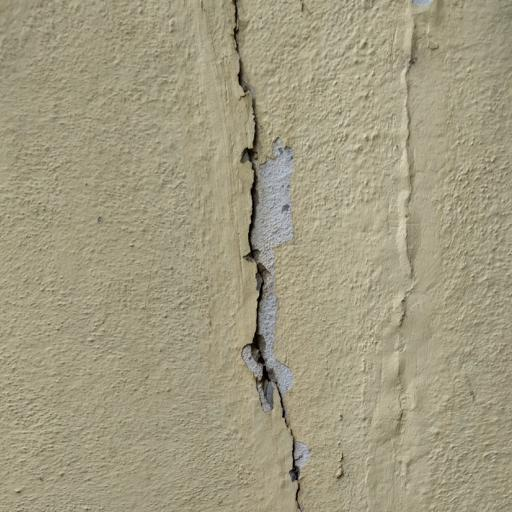peeling: (218, 92, 337, 416)
